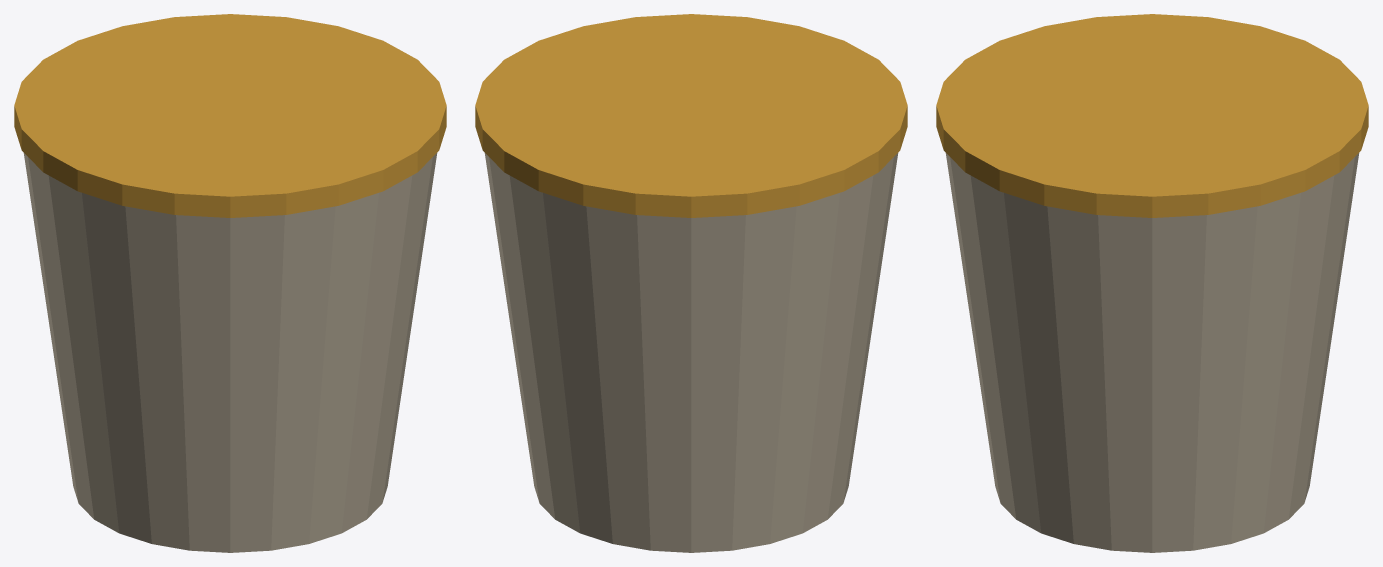
File: planter.glb
3 renders of one model, left to right at view 1: azimuth 30°, elevation 25°; view 2: azimuth 150°, elevation 25°; view 3: azimuth 270°, elevation 25°, orthographic.
Visible parts, largest first — view 1: planter_terracotta, planter_brass; view 2: planter_terracotta, planter_brass; view 3: planter_terracotta, planter_brass.
Part boxes in pixels (bbox=[...]): planter_terracotta: bbox=[23, 153, 437, 552]; planter_brass: bbox=[14, 14, 446, 217]; planter_terracotta: bbox=[484, 153, 898, 552]; planter_brass: bbox=[475, 14, 907, 217]; planter_terracotta: bbox=[945, 153, 1359, 552]; planter_brass: bbox=[936, 14, 1368, 217].
Size of the model in its own units: 0.55 by 0.535 by 0.55.
